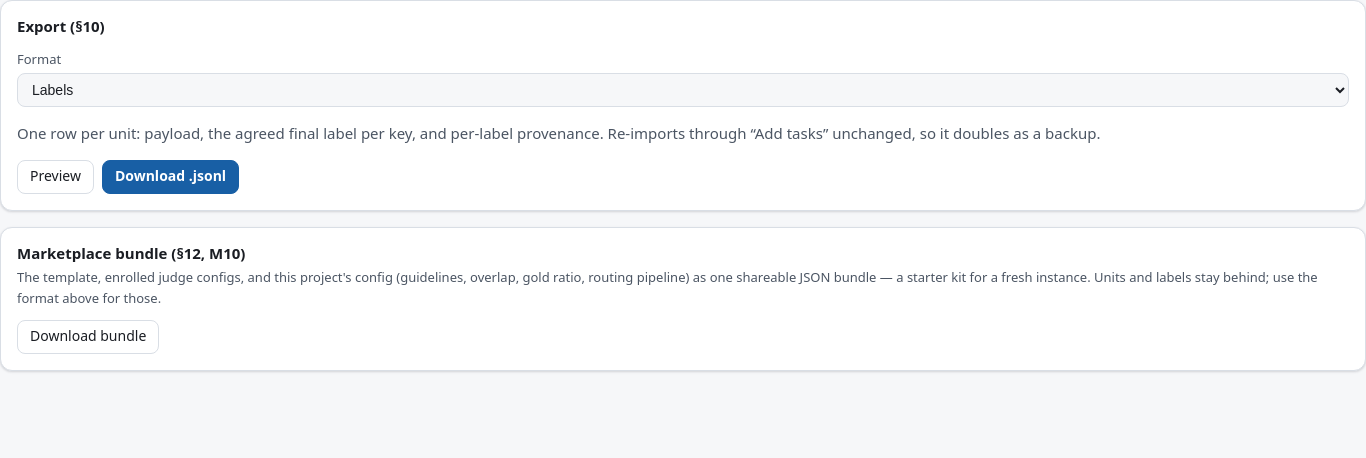
Test: Export › reports a failed export inline, and does not also toast it
Click the button with test id "export-download": (170, 177) 102,160 -> 239,194
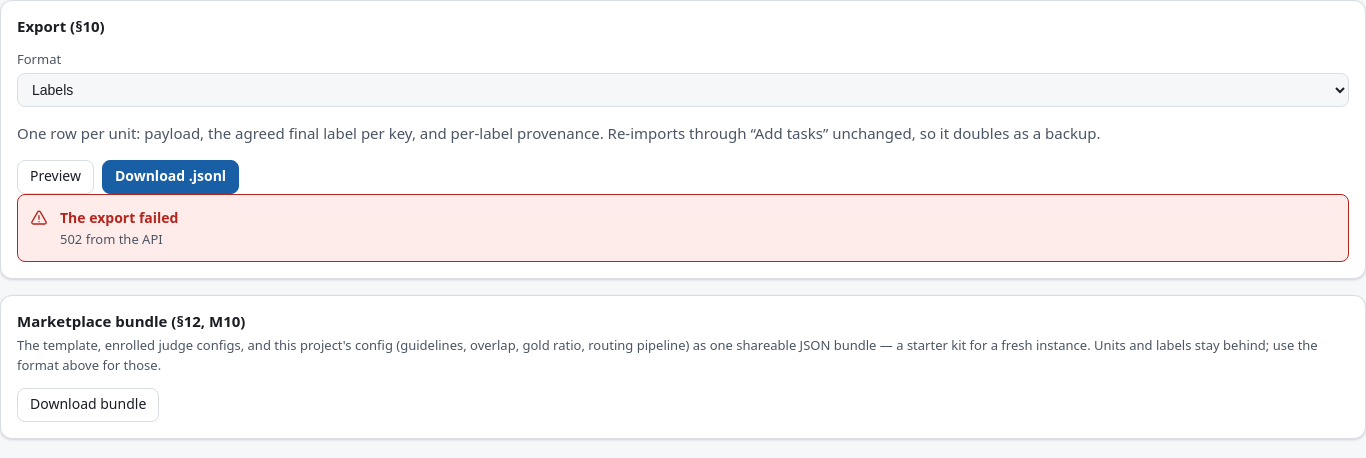
Expected: the message with test id "export-error" shows "502 from the API", 60,230 -> 163,248
